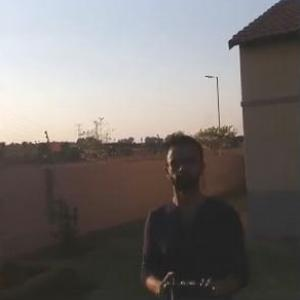follow: (138, 131, 255, 299)
